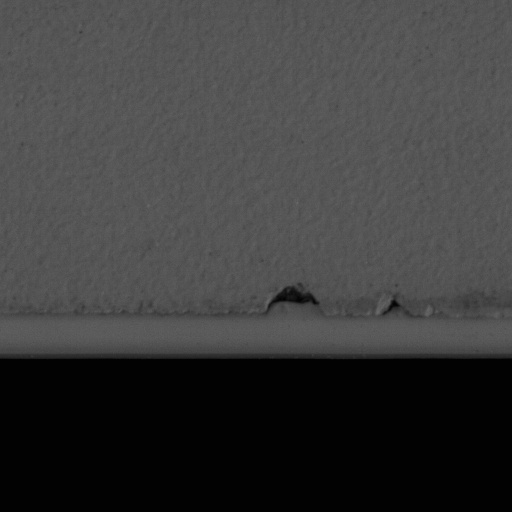bengque: (262, 282, 324, 312), (378, 296, 413, 317)
